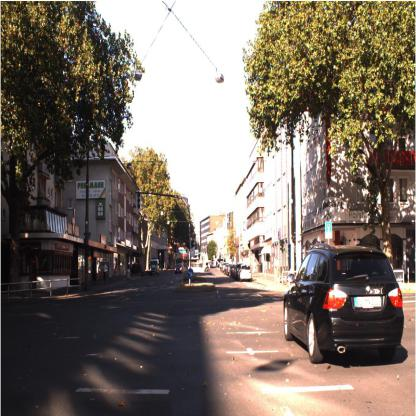mandatory: (186, 266, 194, 282)
